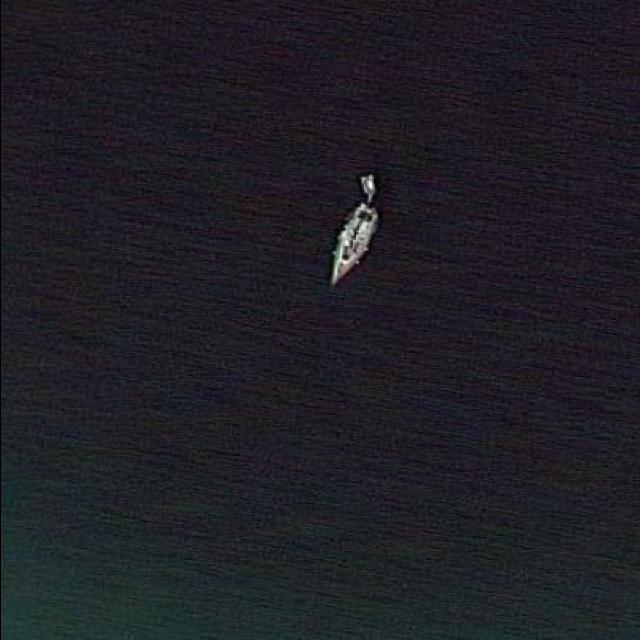ship: (328, 199, 380, 293)
